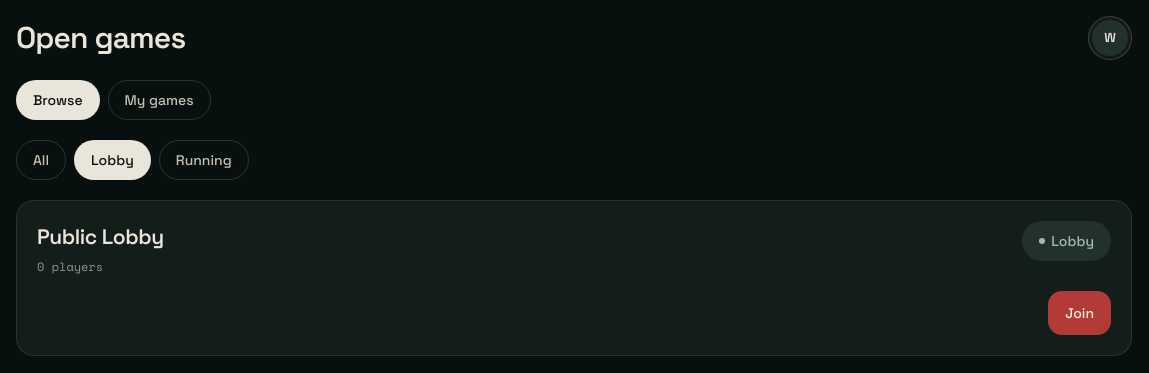
Test: browser: private games come from My games, never Browse
Expected: the heading "Public Lobby" is shown, [37,221,164,252]
Expected: the text "Private Lobby" is not shown
Click the tab "My games": (159,100) [108,80,211,120]
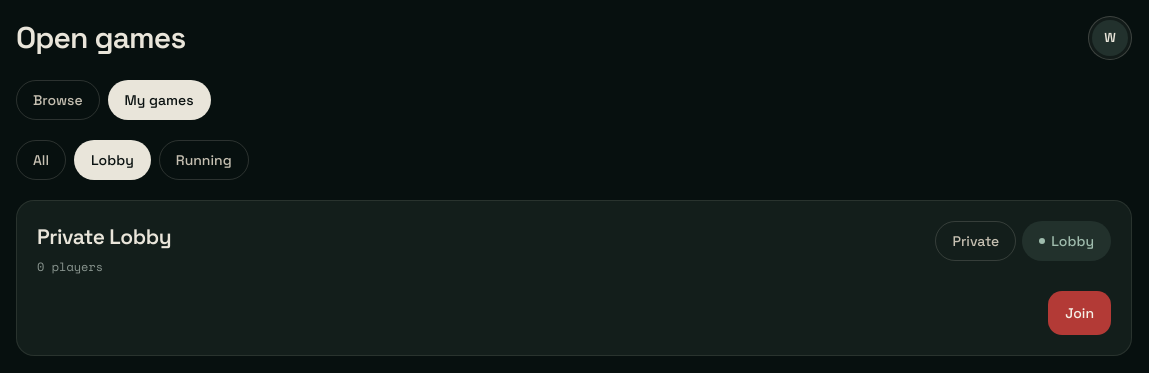
Expected: the heading "Private Lobby" is shown, [37,221,171,252]
